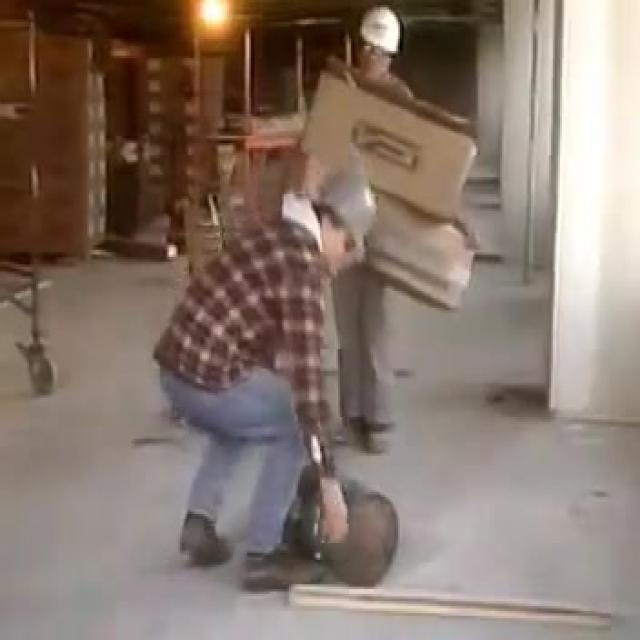safety_helmet: (309, 162, 379, 266), (349, 0, 415, 68)
